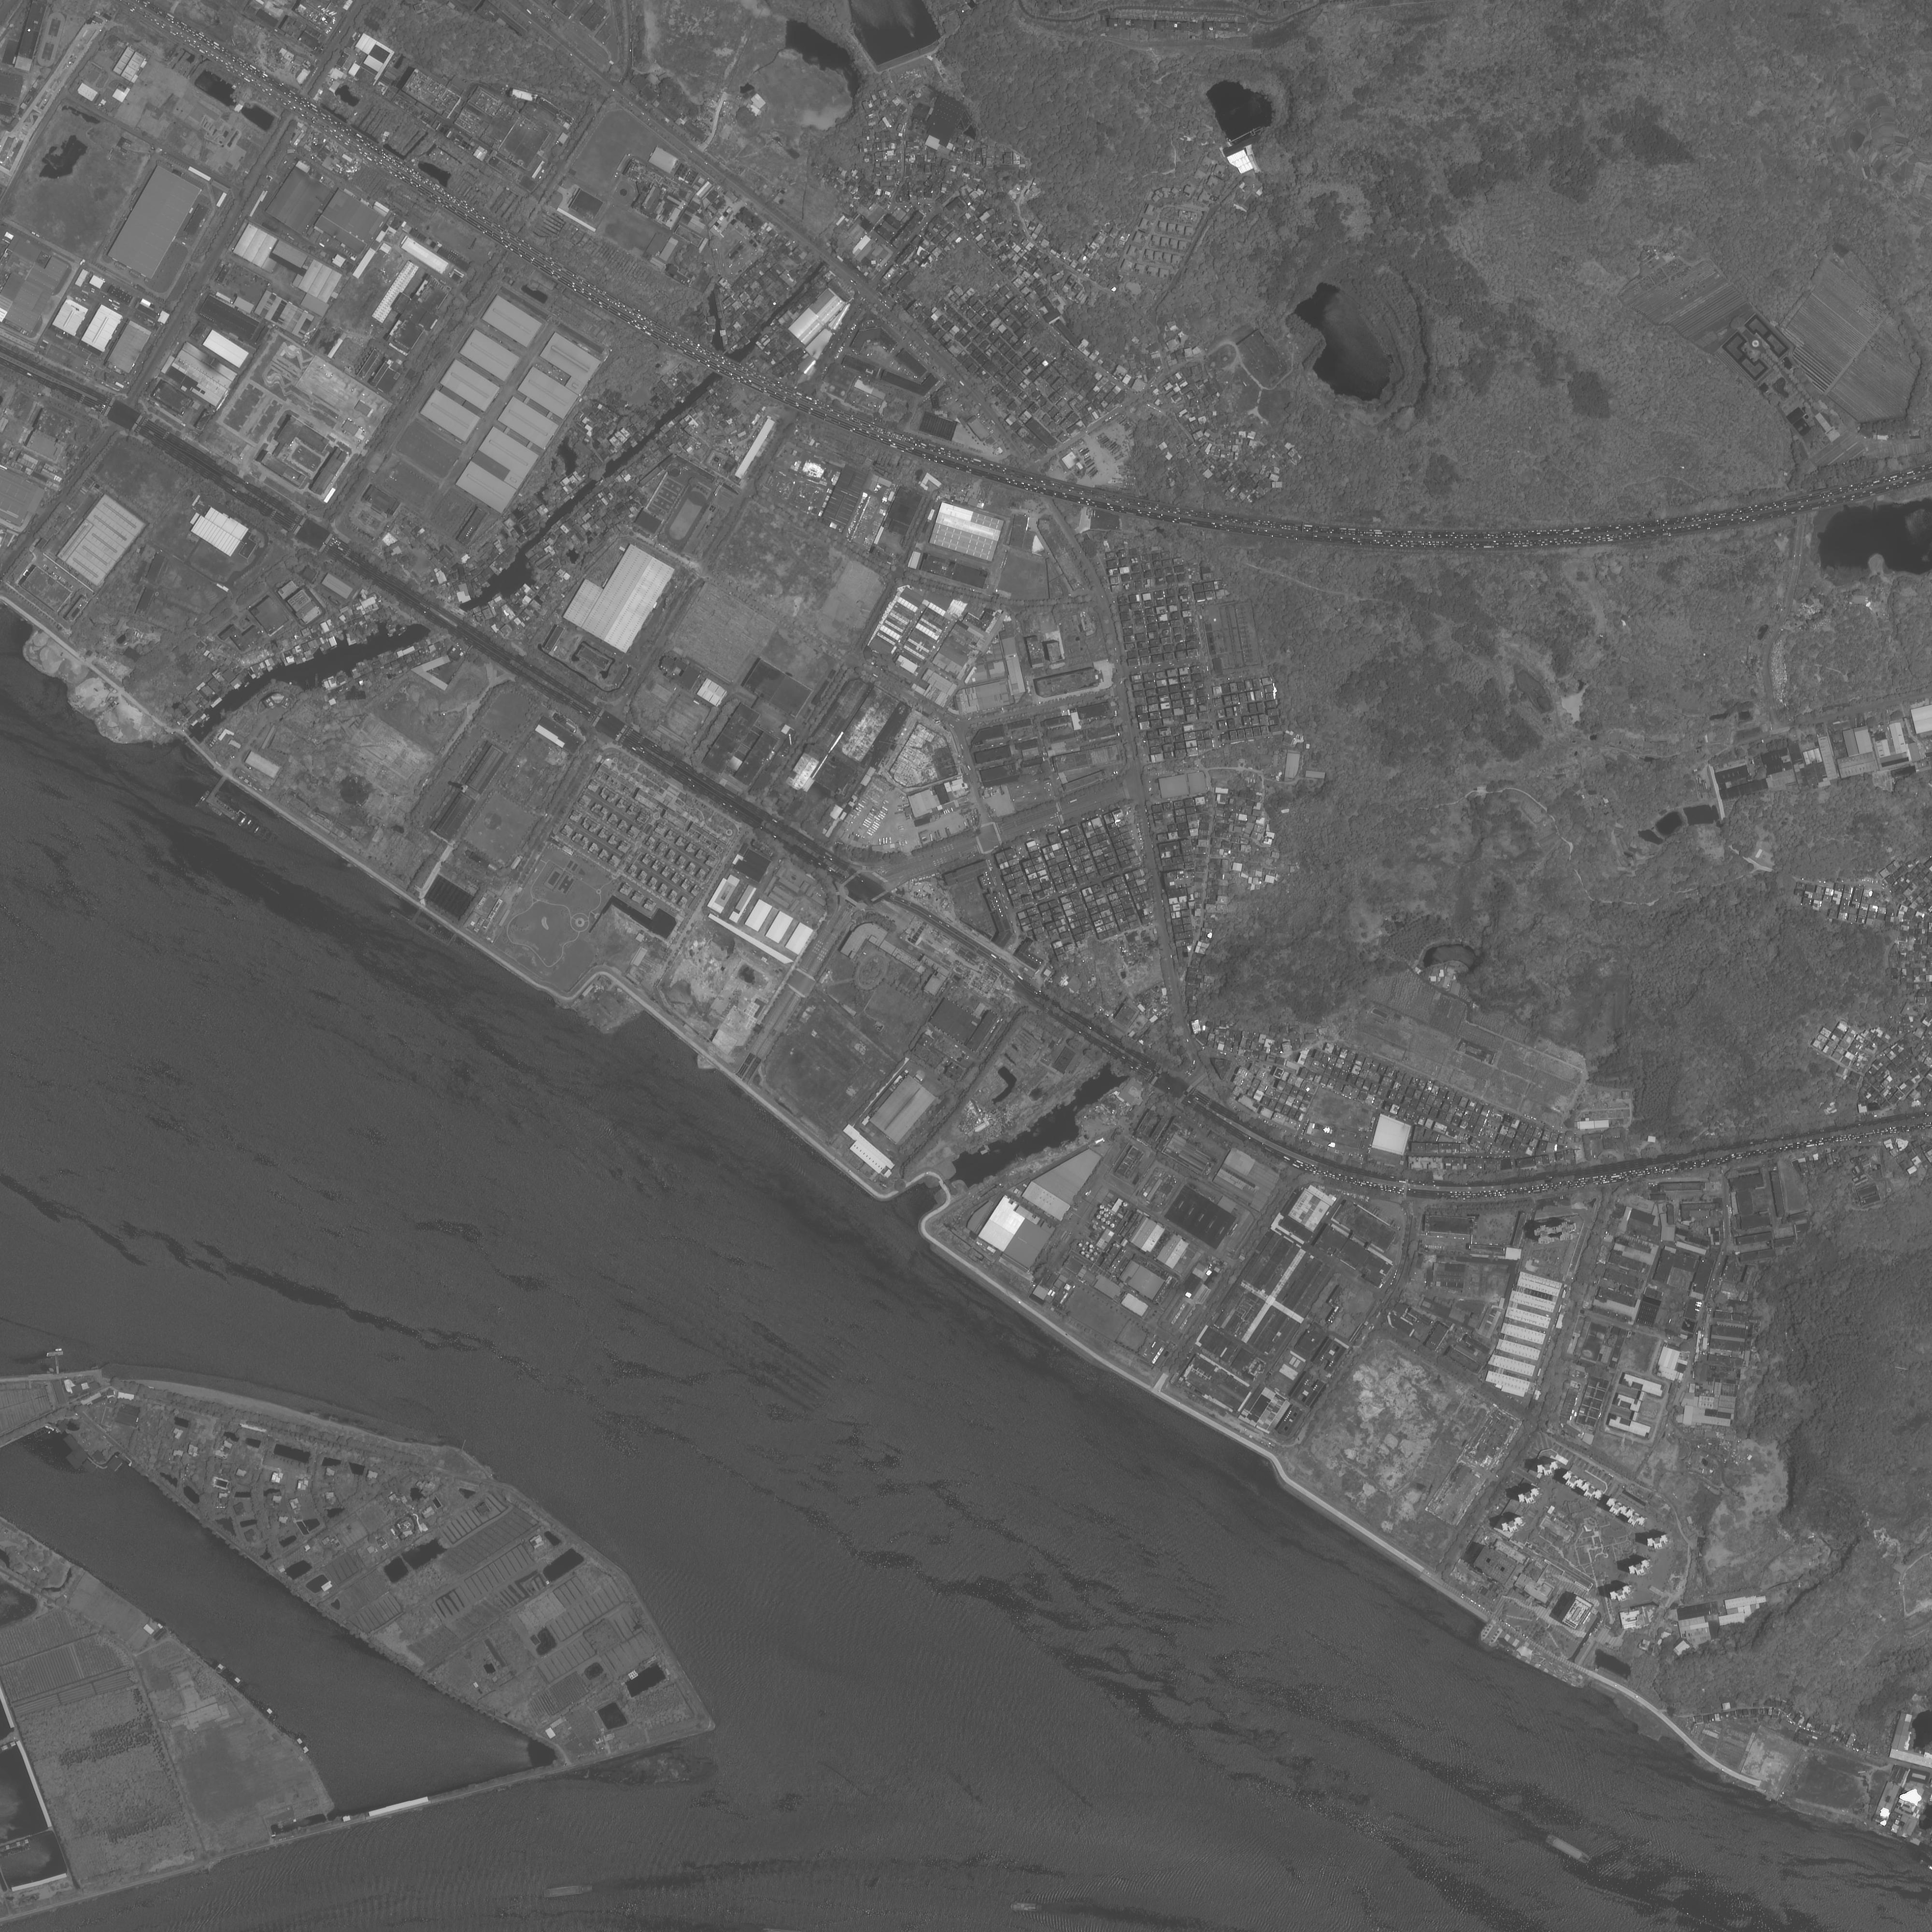harbor: (386, 897, 462, 953), (201, 772, 255, 824), (47, 1348, 66, 1373)
ship: (1545, 1832, 1595, 1867), (541, 1883, 596, 1900), (192, 788, 213, 810), (1009, 1901, 1044, 1914), (238, 816, 247, 826), (254, 826, 260, 834), (246, 820, 252, 827)
